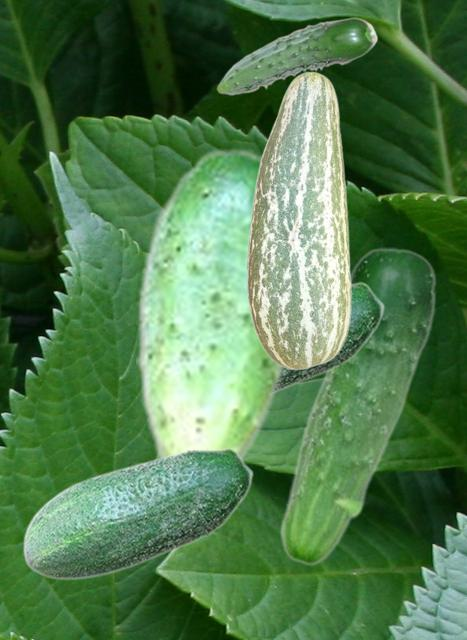cucumber: (279, 247, 436, 565), (136, 146, 291, 462), (246, 71, 351, 369), (22, 447, 253, 579), (216, 17, 377, 94), (278, 281, 384, 392)
